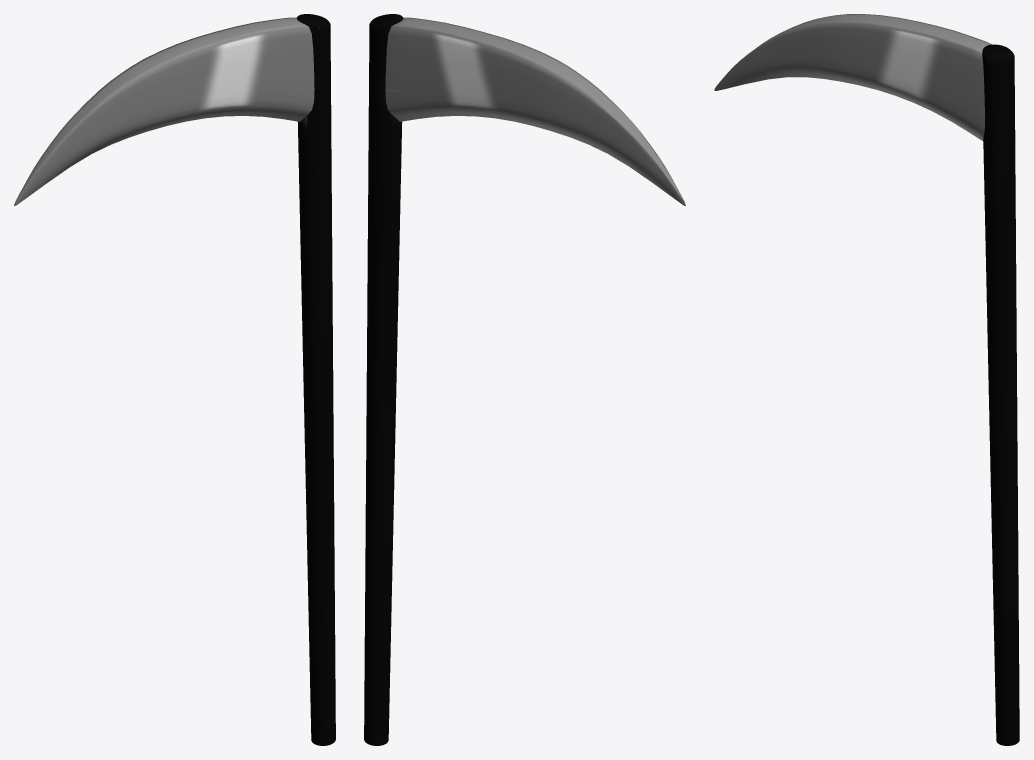
Rendered from hoz.obj.
The picture shows the model from 3 angles, left to right: view 1: azimuth 30°, elevation 25°; view 2: azimuth 150°, elevation 25°; view 3: azimuth 330°, elevation 25°; orthographic projection. The views are drawn at different scales.
Visible parts, largest first — view 1: Palo; view 2: Palo; view 3: Palo.
Part boxes in pixels (left/top/right/bottom): Palo: left=14, top=14, right=335, bottom=745; Palo: left=364, top=14, right=685, bottom=745; Palo: left=714, top=14, right=1019, bottom=745.
Bounding box in the file's own units: 2.47 × 5.4 × 0.2373.
